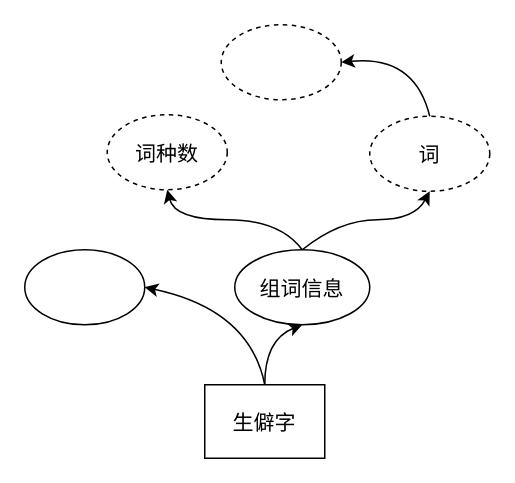
Some shapes in this 515 by 483 pixel diagram are drawn without their labels. Here are the shapes that lost their labels. From the top down, the centre of each, then its label:
pixel 280 61: 词频
pixel 84 286: 字频
